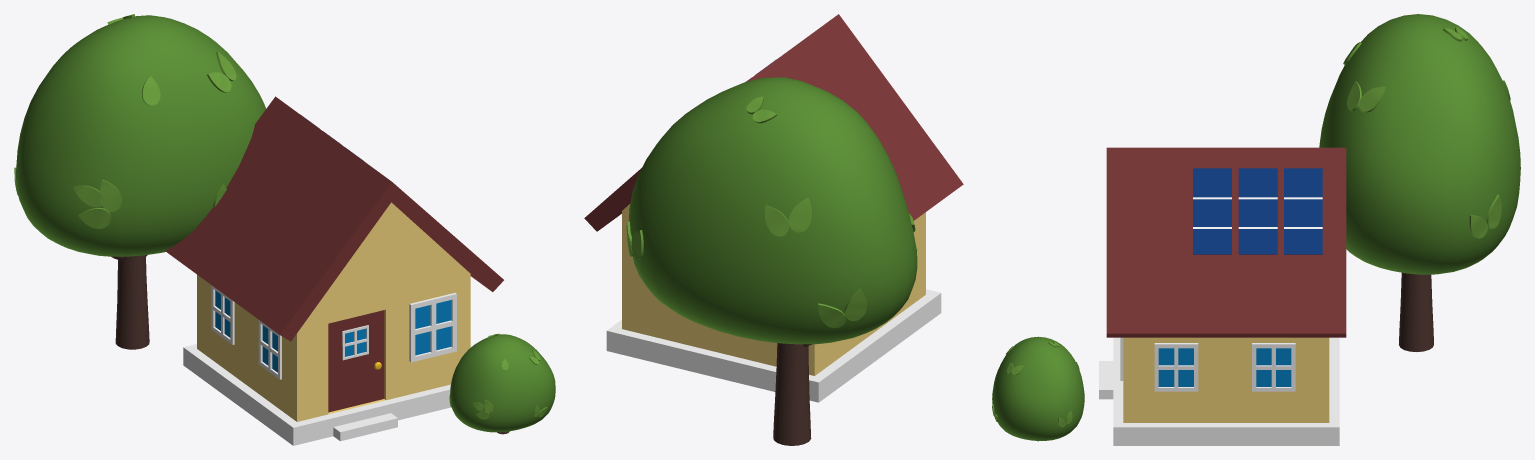
The model's file is house_with_garden.gltf.
3 views of the same model, side by side, from view 1: azimuth 30°, elevation 25°; view 2: azimuth 150°, elevation 25°; view 3: azimuth 270°, elevation 25° (orthographic). The views are drawn at different scales.
Parts seen in each view (by area): view 1: Cube.475, Cube.476, Cube.482, Circle.2347; view 2: Cube.476, Cube.475, Circle.2347; view 3: Cube.475, Cube.476, Cube.482, Circle.2347.
Part boxes in pixels (left/top/right/bottom): Cube.475: left=165, top=96, right=503, bottom=445; Cube.476: left=15, top=15, right=265, bottom=349; Cube.482: left=449, top=333, right=555, bottom=434; Circle.2347: left=14, top=14, right=236, bottom=228; Cube.476: left=628, top=77, right=917, bottom=445; Cube.475: left=584, top=14, right=963, bottom=402; Circle.2347: left=626, top=96, right=917, bottom=328; Cube.475: left=1099, top=147, right=1346, bottom=445; Cube.476: left=1319, top=14, right=1520, bottom=351; Cube.482: left=992, top=336, right=1084, bottom=441; Circle.2347: left=1343, top=26, right=1510, bottom=238.
Bounding box in the file's own units: 2.29 × 2.05 × 3.02.
Materials: 1 (1 with a texture image).
